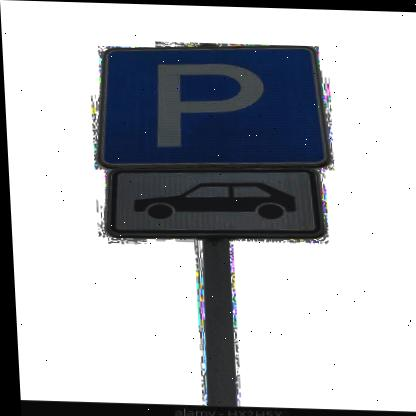Parking: (91, 46, 330, 167)
